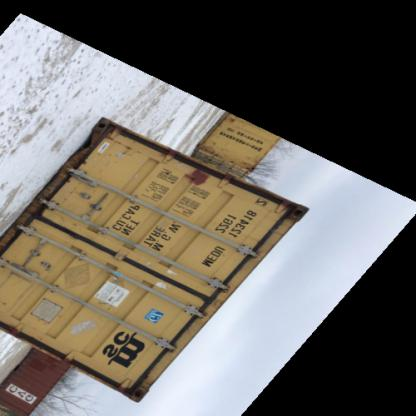Damage: (256, 196, 306, 264), (119, 362, 162, 416), (81, 115, 127, 158), (30, 190, 66, 240), (186, 160, 218, 192)
